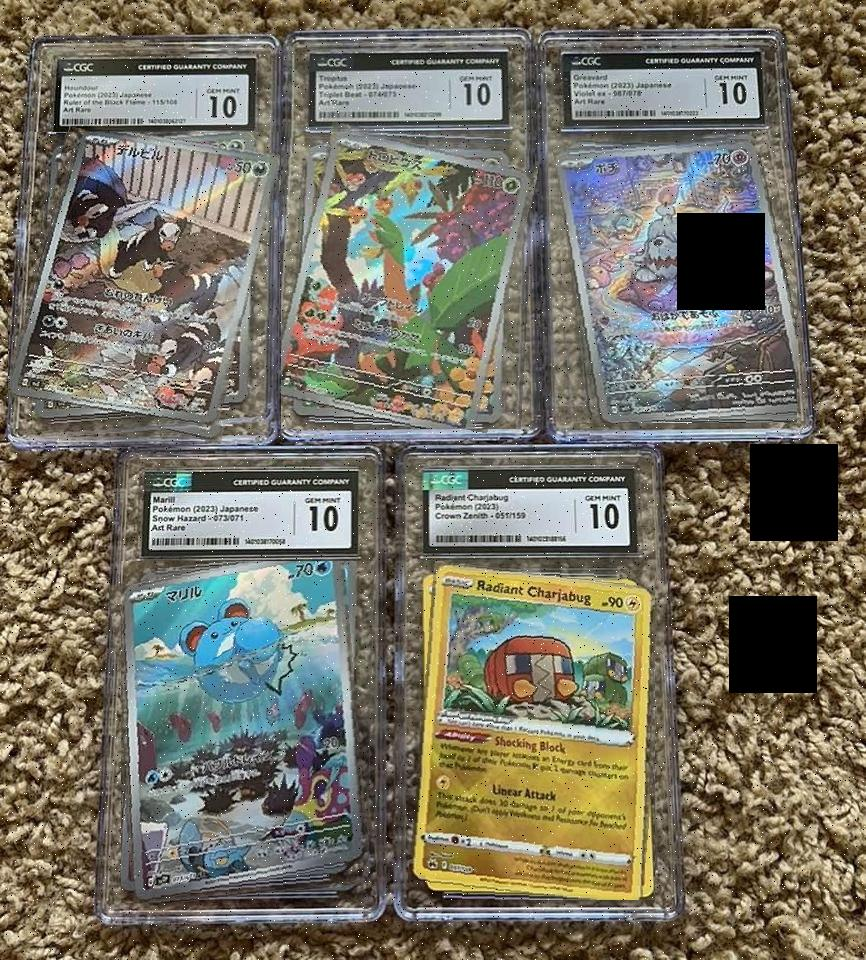card: (121, 561, 369, 902), (410, 564, 655, 900), (8, 132, 280, 426), (281, 131, 534, 429), (556, 140, 797, 423)
